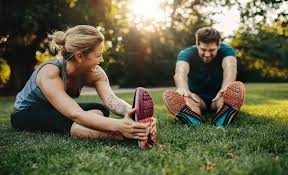Caution: (9, 22, 244, 148)
